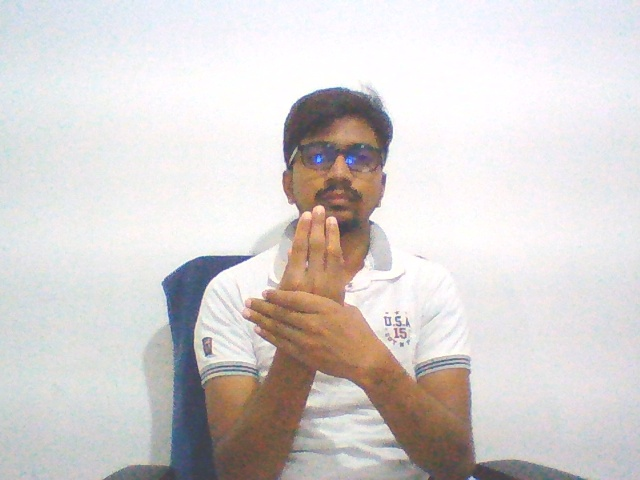tree: (239, 196, 395, 391)
